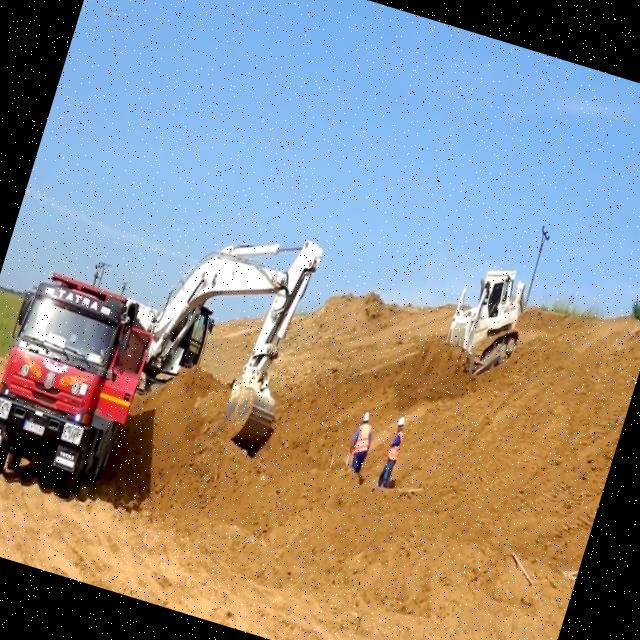Dump Truck: (0, 261, 162, 510)
Excavator: (86, 189, 328, 462)
Loader: (416, 250, 538, 388)
